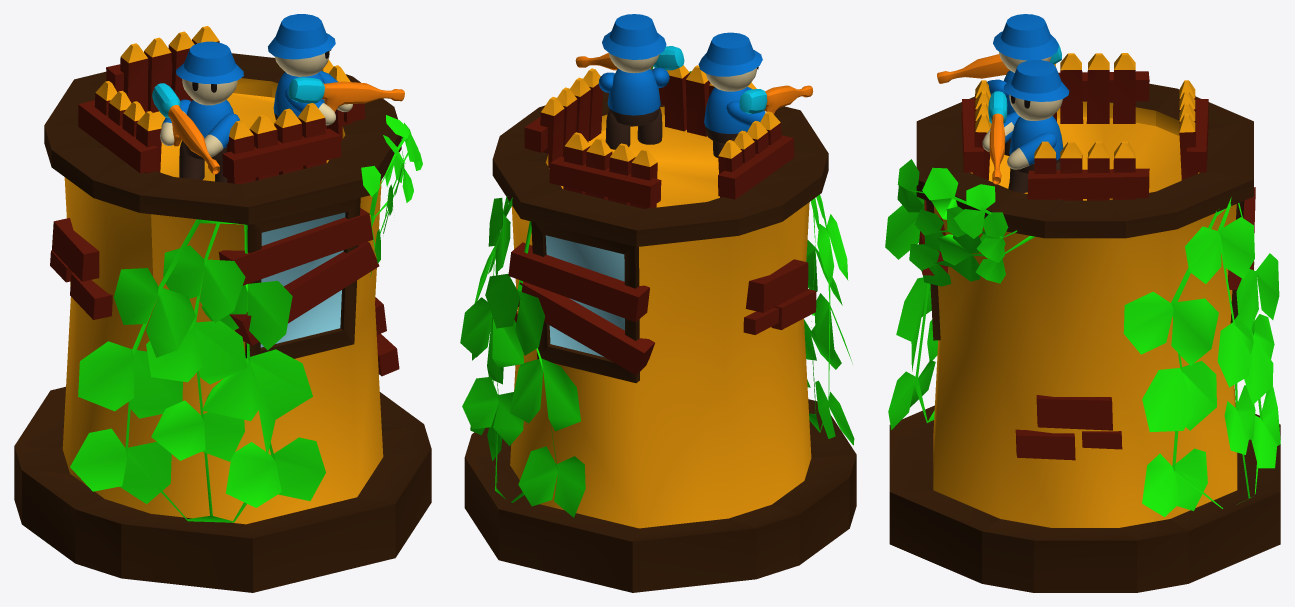
The model's file is kule_yeni.fbx.
3 renders of one model, left to right at view 1: azimuth 30°, elevation 25°; view 2: azimuth 150°, elevation 25°; view 3: azimuth 270°, elevation 25°, orthographic. The views are drawn at different scales.
Parts seen in each view (by area): view 1: kule, adam.003, adam.002; view 2: kule, adam.002, adam.003; view 3: kule, adam.002, adam.003.
Part boxes in pixels (left/top/right/bottom): kule: left=14, top=26, right=431, bottom=592; adam.003: left=152, top=41, right=243, bottom=182; adam.002: left=268, top=14, right=404, bottom=125; kule: left=460, top=65, right=856, bottom=592; adam.002: left=575, top=14, right=684, bottom=149; adam.003: left=698, top=32, right=813, bottom=157; kule: left=885, top=53, right=1280, bottom=592; adam.002: left=982, top=60, right=1069, bottom=199; adam.003: left=937, top=14, right=1061, bottom=155.
Bounding box in the file's own units: 678 × 889 × 679.
